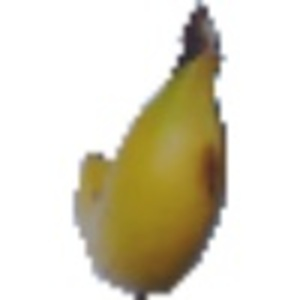banana: (63, 3, 240, 298)
